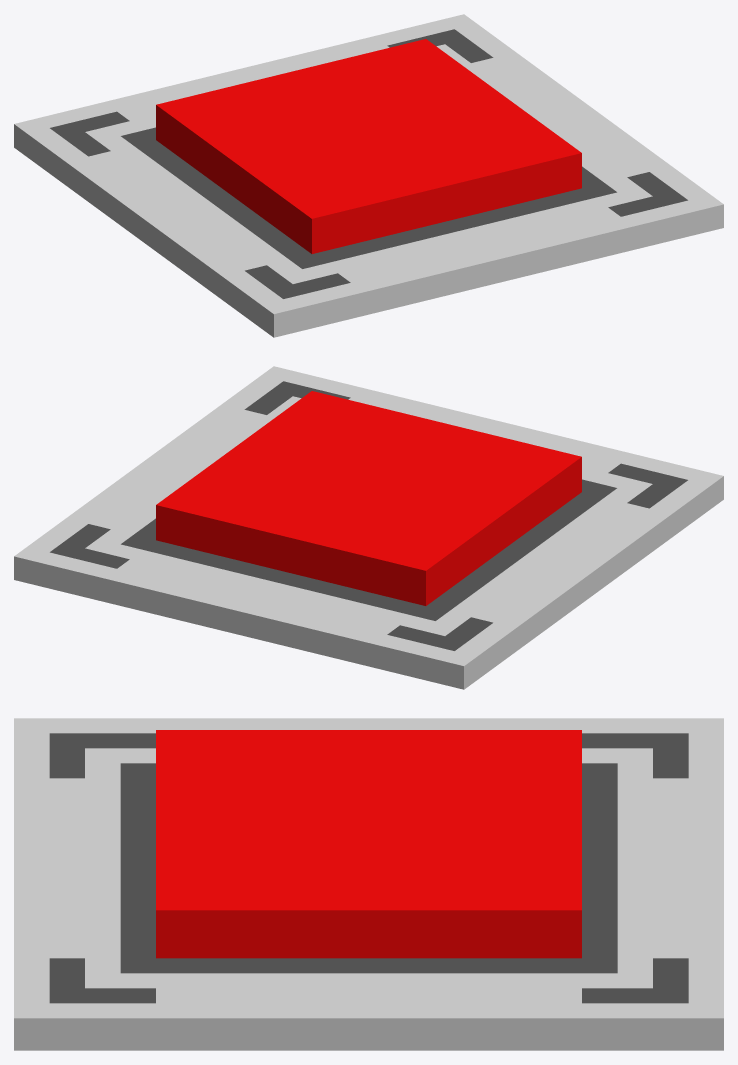
Rendered from panel_up.vox.obj.
The picture shows the model from 3 angles, top to bottom: view 1: azimuth 30°, elevation 25°; view 2: azimuth 150°, elevation 25°; view 3: azimuth 270°, elevation 25°; orthographic projection. The views are drawn at different scales.
Size of the model in its own units: 4 by 0.5 by 4.
1 material, 1 textured.
